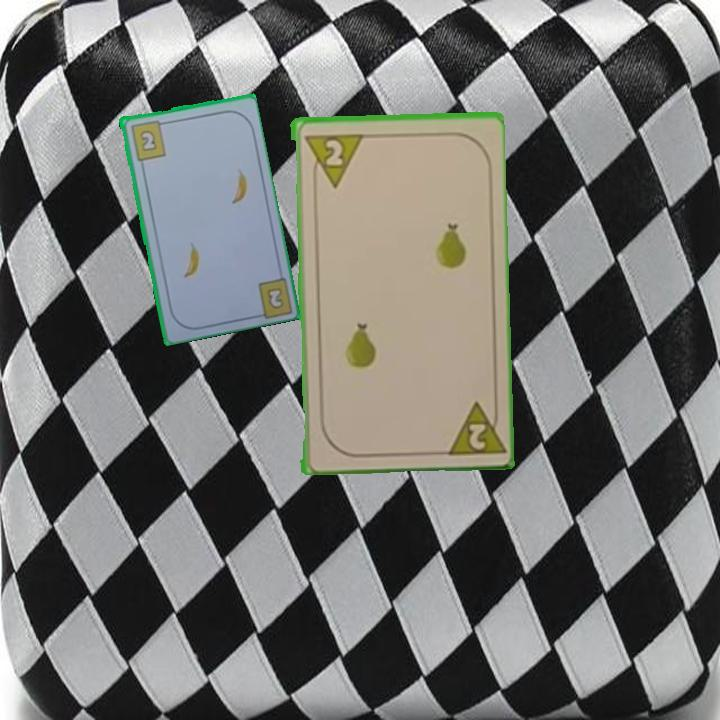2b: (127, 116, 169, 163), (265, 286, 284, 310)
2p: (439, 396, 504, 458), (319, 135, 345, 168)
